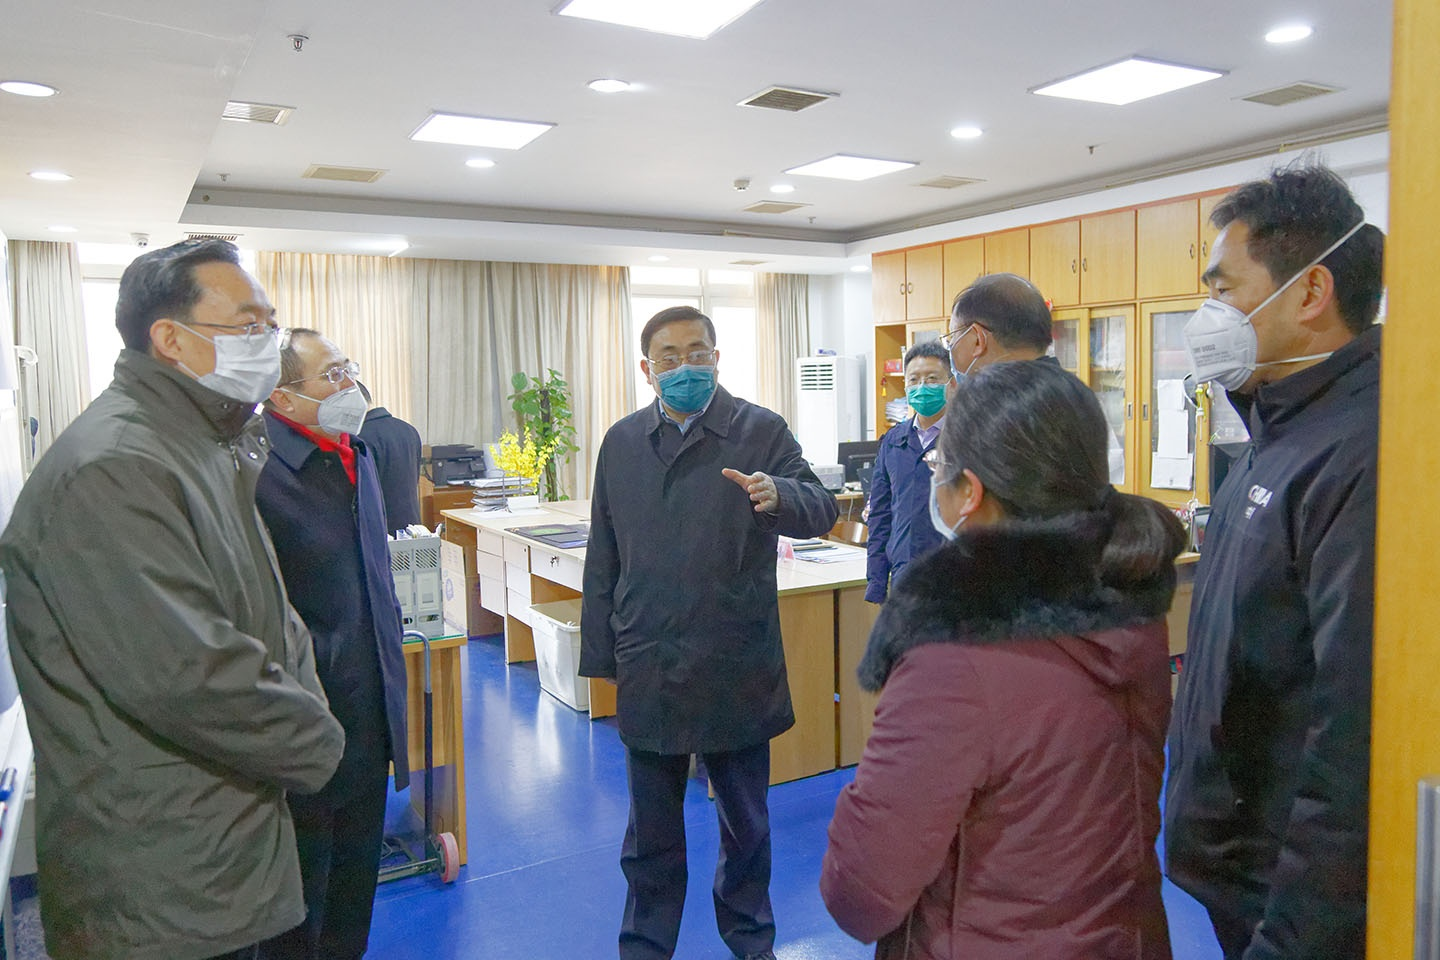correctlyWear: (1181, 245, 1336, 397), (149, 294, 285, 405), (270, 352, 369, 442), (926, 421, 985, 541), (639, 336, 721, 412), (940, 291, 993, 381), (904, 366, 956, 418)
